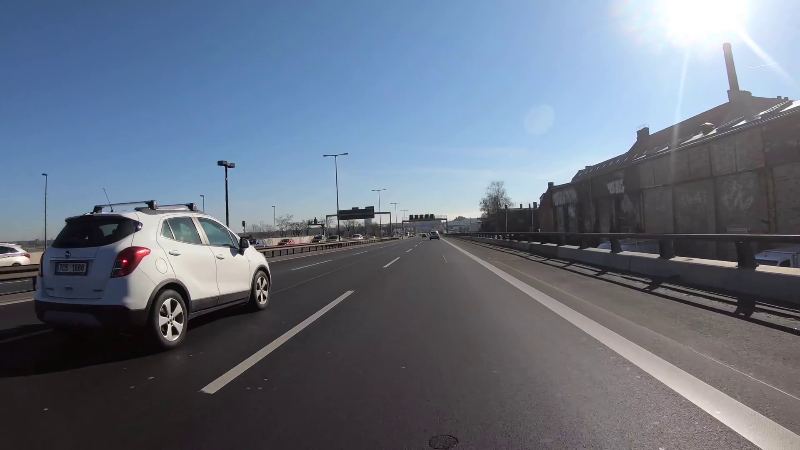Plate: (53, 260, 90, 276)
